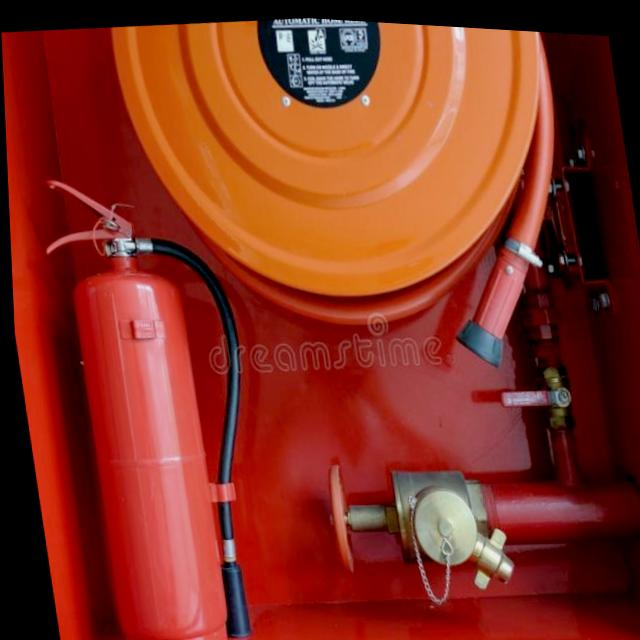FireExtinguisher: (18, 146, 283, 640)
